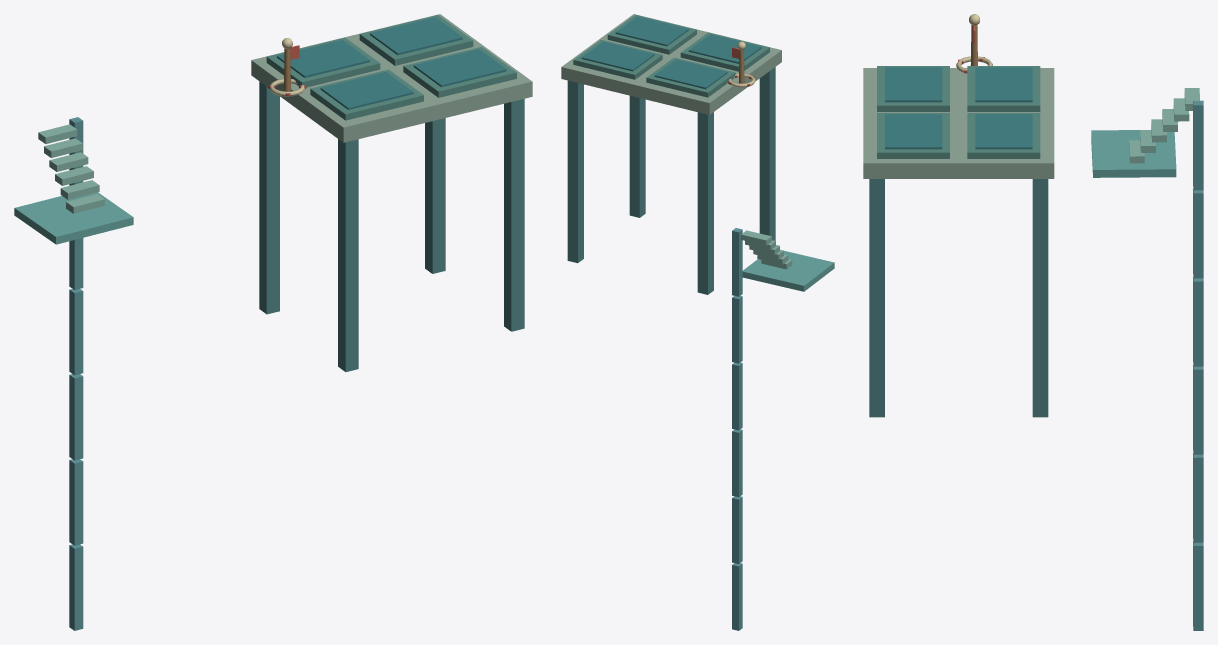
The model's file is zone5_aqua_platform.glb.
3 renders of one model, left to right at view 1: azimuth 30°, elevation 25°; view 2: azimuth 150°, elevation 25°; view 3: azimuth 270°, elevation 25°, orthographic. The views are drawn at different scales.
Parts seen in each view (by area): view 1: zone5_aqua_platform; view 2: zone5_aqua_platform; view 3: zone5_aqua_platform.
Part boxes in pixels (<box>): zone5_aqua_platform: <box>14,14,532,630</box>; zone5_aqua_platform: <box>561,14,834,630</box>; zone5_aqua_platform: <box>863,14,1203,630</box>.
Bounding box in the file's own units: 12.64 × 21.16 × 9.81.
